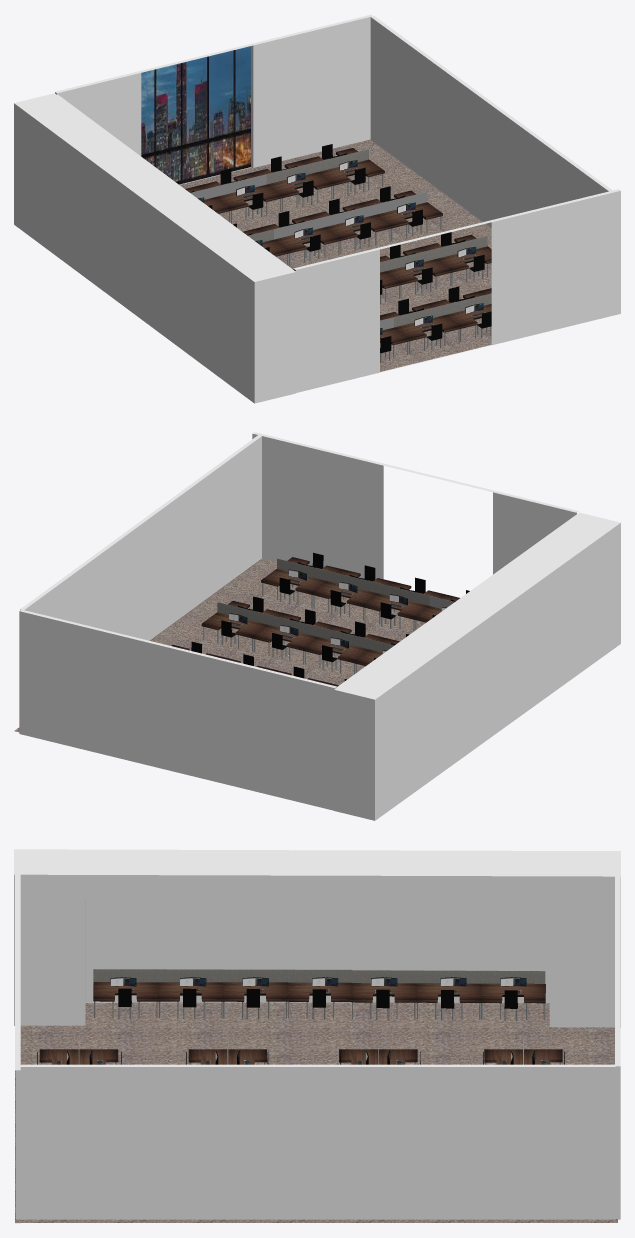
Rendered from office_three.glb.
3 views of the same model, one above another, from view 1: azimuth 30°, elevation 25°; view 2: azimuth 150°, elevation 25°; view 3: azimuth 270°, elevation 25° (orthographic). The views are drawn at different scales.
Visible parts, largest first — view 1: Box209, Box208, Box322, Box323, Plane001, Table2, Table25, Table11, Table27, Table26, Table19, Table18 (+2 smaller); view 2: Box209, Box208, Box323, Box322, Plane001, Table5, Table13, Table15, Table6, Table14, Table7; view 3: Box323, Box209, Plane001, Box208, Box322, table40, table37, table39, table33, table36, table35, tablw34 (+15 smaller).
Boxes of the visible parts, bbox=[...] form: Box209: bbox=[14, 93, 296, 403]; Box208: bbox=[55, 14, 372, 184]; Box322: bbox=[293, 189, 620, 392]; Box323: bbox=[370, 16, 613, 227]; Plane001: bbox=[180, 139, 491, 371]; Table2: bbox=[394, 315, 461, 340]; Table25: bbox=[318, 159, 384, 185]; Table11: bbox=[386, 259, 452, 284]; Table27: bbox=[216, 184, 282, 210]; Table26: bbox=[267, 172, 333, 198]; Table19: bbox=[274, 227, 340, 252]; Table18: bbox=[325, 215, 391, 240]; Box209: bbox=[333, 512, 620, 820]; Box208: bbox=[19, 609, 336, 810]; Box323: bbox=[20, 434, 263, 640]; Box322: bbox=[252, 432, 578, 579]; Plane001: bbox=[14, 558, 425, 732]; Table5: bbox=[261, 569, 327, 594]; Table13: bbox=[201, 612, 267, 638]; Table15: bbox=[303, 637, 369, 663]; Table6: bbox=[312, 581, 378, 606]; Table14: bbox=[253, 625, 318, 650]; Table7: bbox=[363, 593, 429, 619]; Box323: bbox=[16, 1064, 615, 1219]; Box209: bbox=[14, 849, 620, 1027]; Plane001: bbox=[15, 1002, 617, 1222]; Box208: bbox=[615, 874, 620, 1219]; Box322: bbox=[15, 872, 20, 1223]; table40: bbox=[480, 983, 545, 1003]; table37: bbox=[351, 983, 416, 1002]; table39: bbox=[416, 983, 481, 1002]; table33: bbox=[93, 982, 158, 1001]; table36: bbox=[287, 982, 352, 1001]; table35: bbox=[222, 982, 287, 1001]; tablw34: bbox=[158, 982, 223, 1001].
Size of the model in its own units: 4.72 by 1.52 by 5.43.
Materials: 13 (8 with a texture image).
